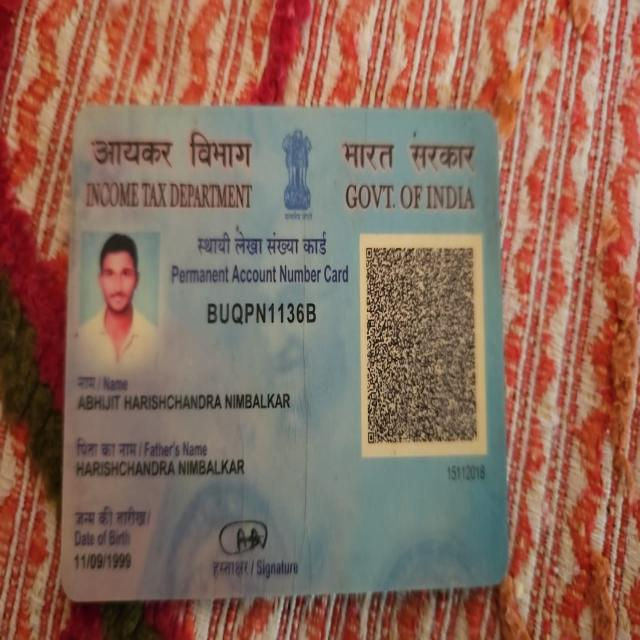pan_card: (64, 113, 500, 606)
